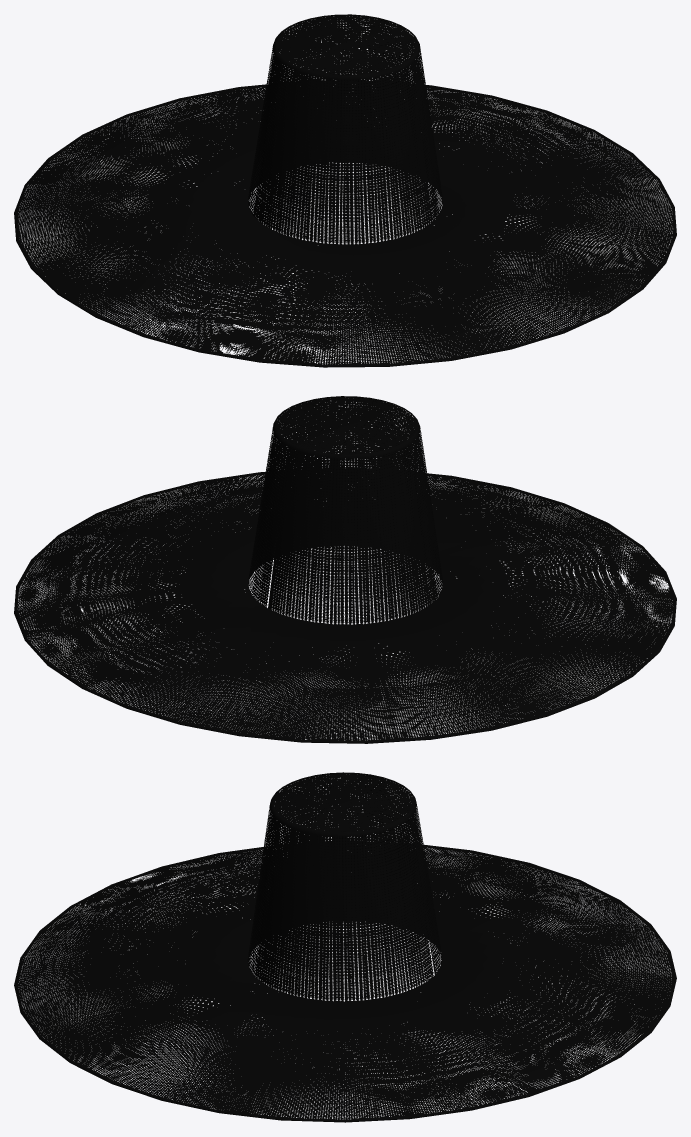
The model's file is gat_M.obj.
3 views of the same model, one above another, from view 1: azimuth 30°, elevation 25°; view 2: azimuth 150°, elevation 25°; view 3: azimuth 270°, elevation 25° (orthographic).
Visible parts, largest first — view 1: got.001; view 2: got.001; view 3: got.001.
Part boxes in pixels (x1,y1,x2,y2): got.001: (14, 14, 676, 367); got.001: (14, 396, 676, 743); got.001: (14, 772, 676, 1122).
Size of the model in its own units: 54.03 by 16.6 by 54.02.
1 material, 1 textured.
